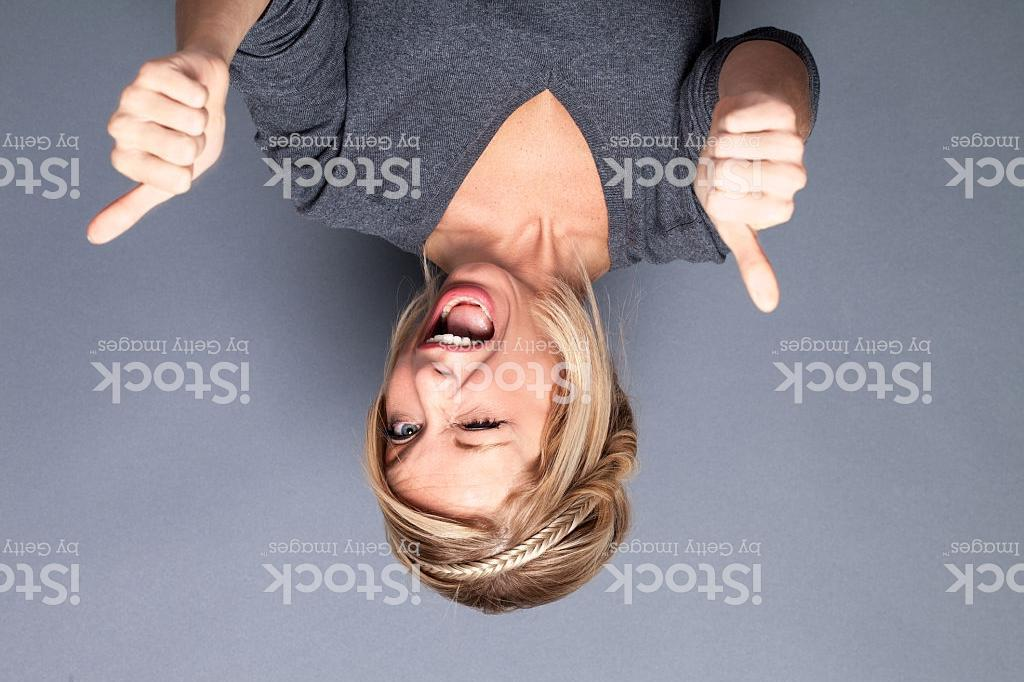thumbsdown: (86, 51, 232, 246), (694, 90, 811, 312)
